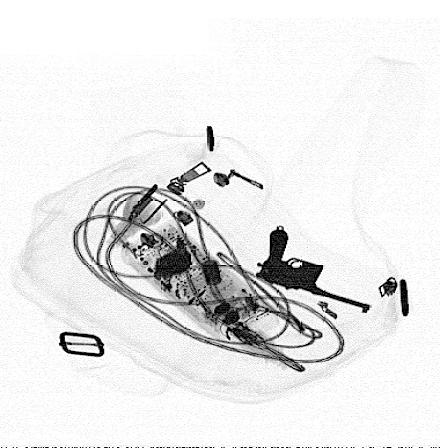Gun: (257, 229, 374, 316)
